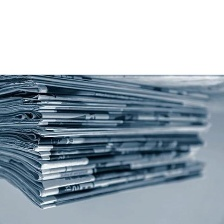news_paper: (0, 74, 217, 210)
